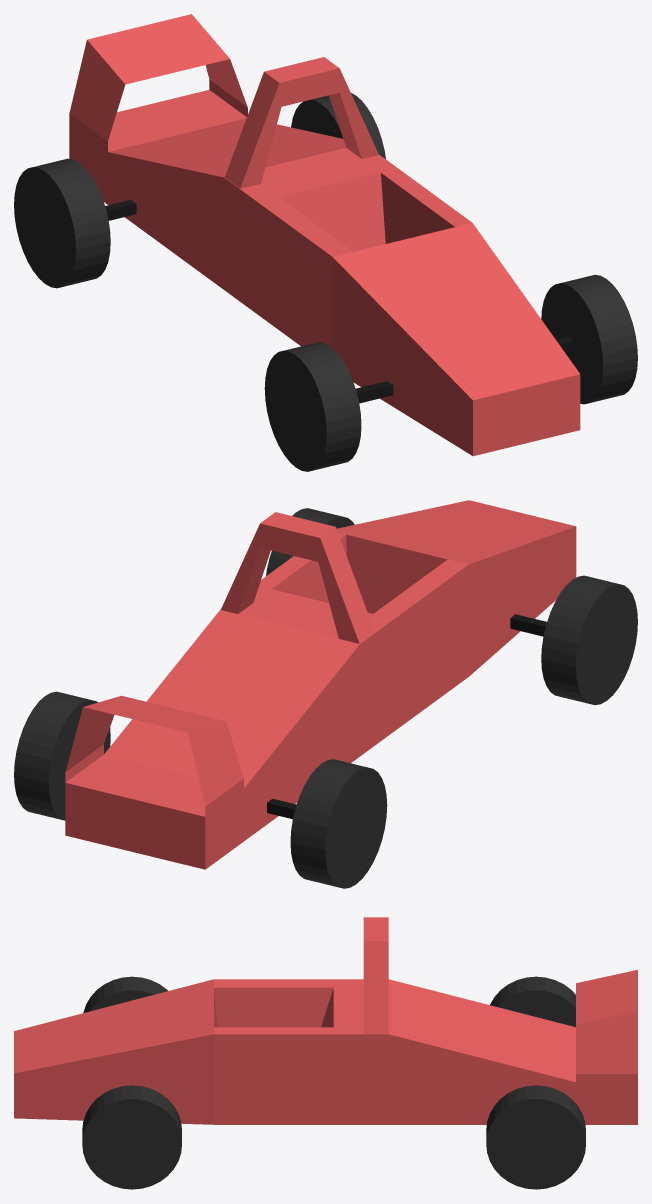
Rendered from Racecar.glb.
3 views of the same model, one above another, from view 1: azimuth 30°, elevation 25°; view 2: azimuth 150°, elevation 25°; view 3: azimuth 270°, elevation 25° (orthographic). The views are drawn at different scales.
Parts seen in each view (by area): view 1: Fusalage, Fusalage_Tail, BR_Wheel, FR_Wheel, FL_Wheel, Fusalage_head, BL_Wheel, F_Axel; view 2: Fusalage, FR_Wheel, BR_Wheel, Fusalage_head, Fusalage_Tail, BL_Wheel, FL_Wheel, F_Axel; view 3: Fusalage, FL_Wheel, BL_Wheel, Fusalage_Tail, Fusalage_head, BR_Wheel, FR_Wheel.
Part boxes in pixels (bbox=[...]): Fusalage: bbox=[69, 90, 580, 456]; Fusalage_Tail: bbox=[69, 14, 247, 151]; BR_Wheel: bbox=[14, 158, 110, 288]; FR_Wheel: bbox=[264, 342, 361, 471]; FL_Wheel: bbox=[541, 274, 637, 404]; Fusalage_head: bbox=[224, 57, 378, 188]; BL_Wheel: bbox=[291, 93, 385, 158]; F_Axel: bbox=[356, 336, 574, 403]; Fusalage: bbox=[65, 500, 576, 869]; FR_Wheel: bbox=[541, 575, 637, 705]; BR_Wheel: bbox=[290, 759, 387, 888]; Fusalage_head: bbox=[221, 512, 374, 643]; Fusalage_Tail: bbox=[65, 695, 243, 816]; BL_Wheel: bbox=[14, 691, 110, 820]; FL_Wheel: bbox=[266, 508, 354, 575]; F_Axel: bbox=[510, 614, 546, 636]; Fusalage: bbox=[14, 979, 637, 1124]; FL_Wheel: bbox=[82, 1085, 181, 1189]; BL_Wheel: bbox=[486, 1085, 585, 1189]; Fusalage_Tail: bbox=[576, 970, 637, 1082]; Fusalage_head: bbox=[363, 917, 388, 1033]; BR_Wheel: bbox=[490, 976, 575, 1026]; FR_Wheel: bbox=[83, 976, 167, 1012].
Size of the model in its own units: 5.79 by 4.41 by 12.49.
